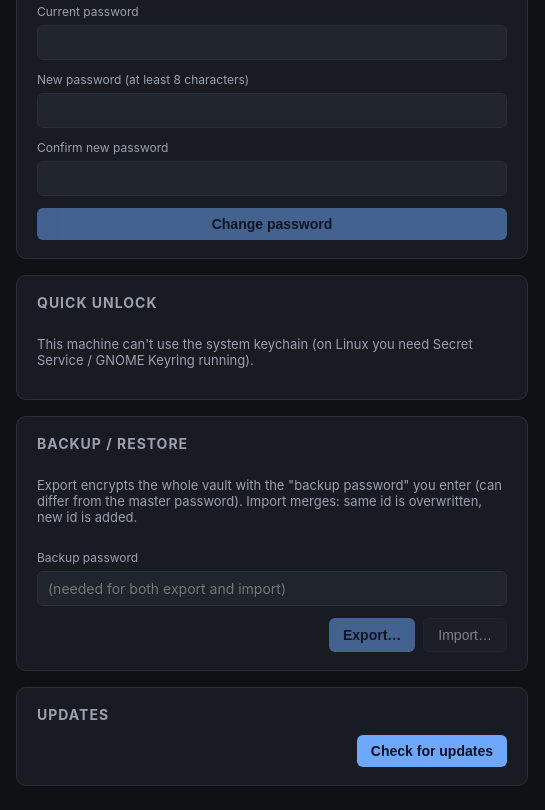
Settings — updater › announces an available update with its version
(page scrolled)
Click the button "Check for updates" at (432, 751), box 357,735 -> 507,767
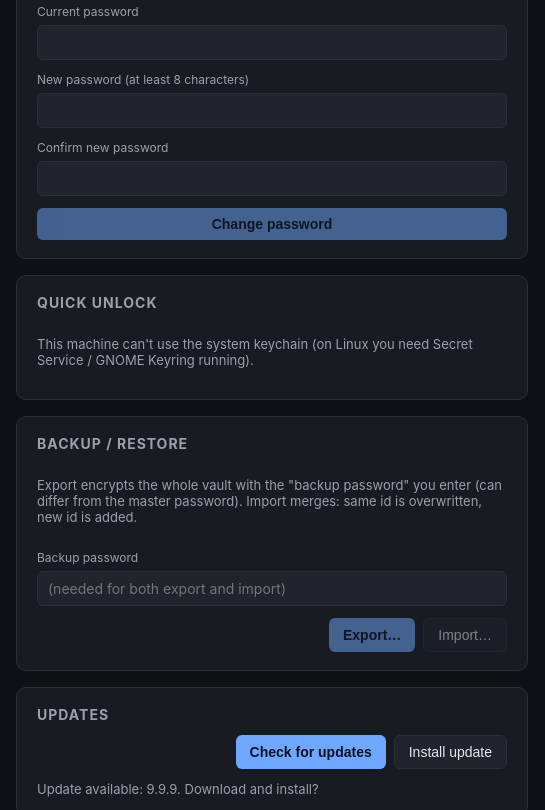
Result: the text "Update available: 9.9.9. Download and install?" is shown at 37,781 -> 319,797
